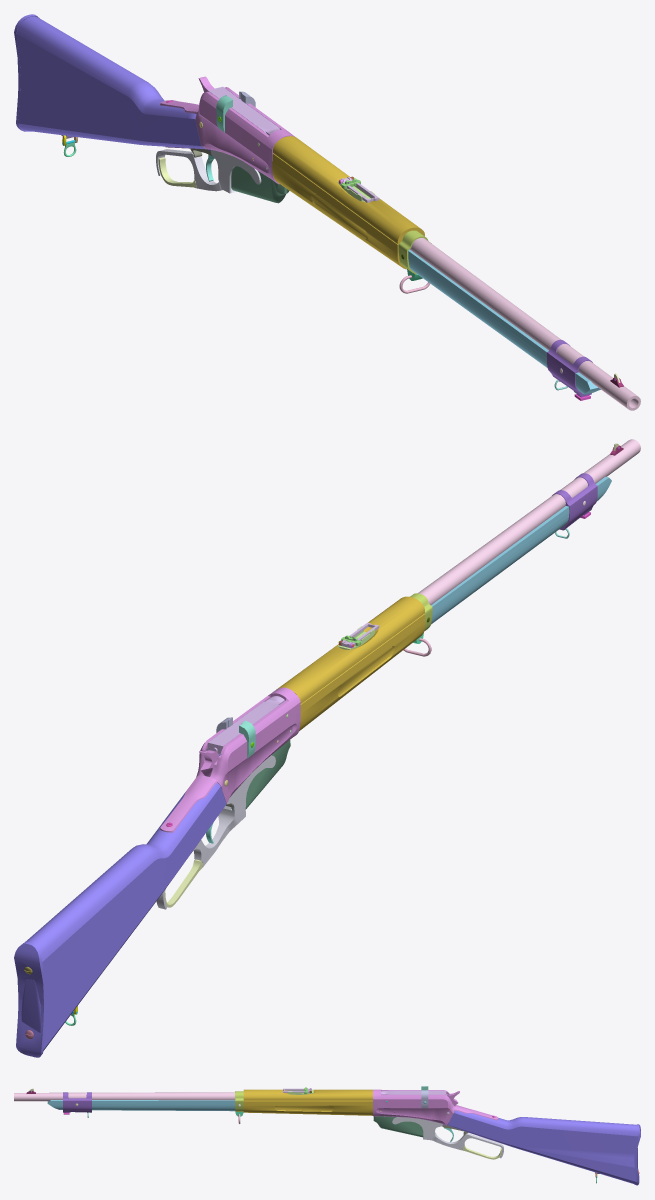
3 renders of one model, top to bottom at view 1: azimuth 30°, elevation 25°; view 2: azimuth 150°, elevation 25°; view 3: azimuth 270°, elevation 25°, orthographic. The views are drawn at different scales.
Parts seen in each view (by area): view 1: split_parent_17, rukoyat_Low_dulo_0, Dulo_Low_dulo_0, split_parent_1, split_parent_7, split_parent_18, Magazin_Low_priclad_0, perehod_Low_dulo_0, Zatvor_Low_dulo_0; view 2: split_parent_17, rukoyat_Low_dulo_0, split_parent_1, Dulo_Low_dulo_0, split_parent_7, split_parent_18, Zatvor_Low_dulo_0, perehod_Low_dulo_0, Magazin_Low_priclad_0; view 3: split_parent_17, rukoyat_Low_dulo_0, split_parent_1, Dulo_Low_dulo_0, split_parent_7, split_parent_18, Magazin_Low_priclad_0, perehod_Low_dulo_0, Zatvor_Low_dulo_0, split_parent_5.
Part boxes in pixels (x1,y1,x2,y2): split_parent_17: (14,14,206,149); rukoyat_Low_dulo_0: (272,136,424,269); Dulo_Low_dulo_0: (409,238,640,410); split_parent_1: (160,76,294,184); split_parent_7: (408,249,600,394); split_parent_18: (156,149,261,193); Magazin_Low_priclad_0: (231,166,289,203); perehod_Low_dulo_0: (547,339,592,396); Zatvor_Low_dulo_0: (207,86,279,135); split_parent_17: (14,782,226,1057); rukoyat_Low_dulo_0: (276,596,425,731); split_parent_1: (160,687,300,832); Dulo_Low_dulo_0: (418,439,640,605); split_parent_7: (431,476,611,624); split_parent_18: (156,755,275,909); Zatvor_Low_dulo_0: (206,696,284,755); perehod_Low_dulo_0: (552,473,597,530); Magazin_Low_priclad_0: (231,740,290,810); split_parent_17: (447,1110,640,1185); rukoyat_Low_dulo_0: (243,1089,372,1115); split_parent_1: (373,1089,498,1139); Dulo_Low_dulo_0: (14,1092,235,1101); split_parent_7: (47,1100,235,1111); split_parent_18: (392,1117,503,1158); Magazin_Low_priclad_0: (373,1116,423,1137); perehod_Low_dulo_0: (63,1092,91,1112); Zatvor_Low_dulo_0: (381,1090,447,1095); split_parent_5: (235,1091,243,1111).
Size of the model in its own units: 0.0321 by 0.1685 by 1.
